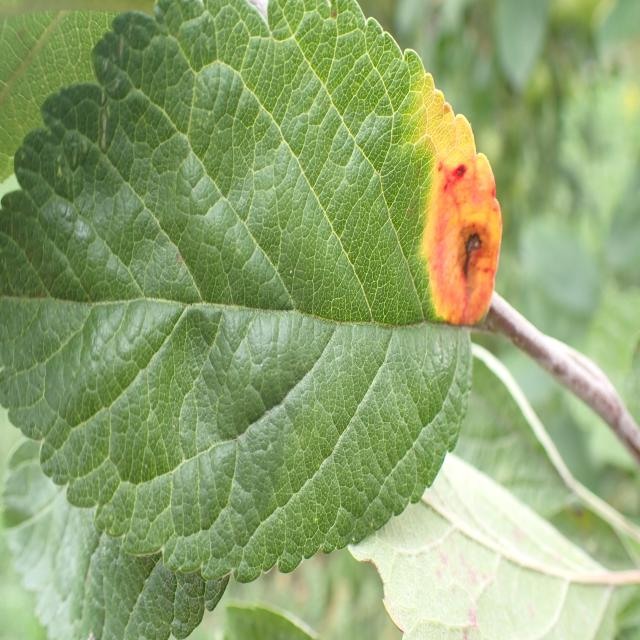Rust: (388, 36, 528, 375)
